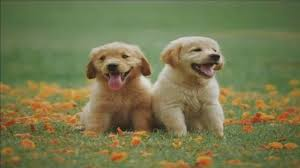Bulldog: (154, 30, 230, 144), (73, 35, 151, 130)
